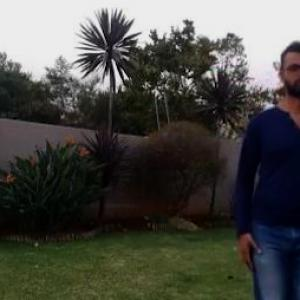follow: (241, 58, 299, 299)
